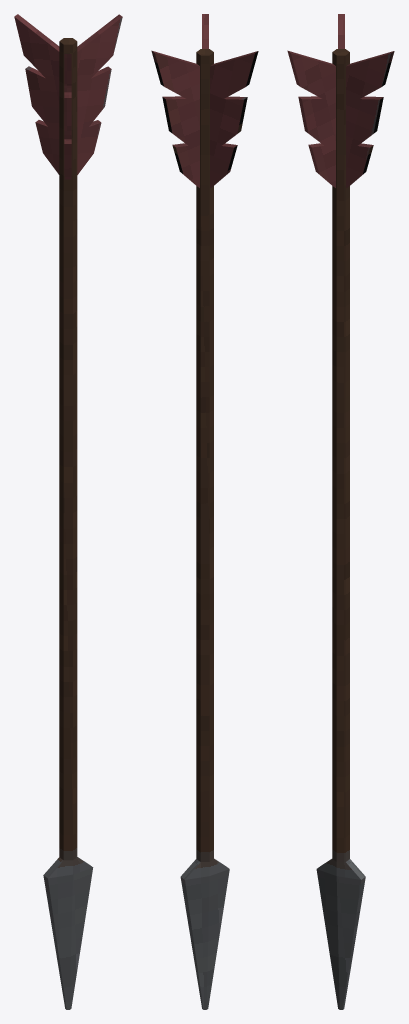
The model's file is arrow.glb.
3 views of the same model, side by side, from view 1: azimuth 30°, elevation 25°; view 2: azimuth 210°, elevation 25°; view 3: azimuth 330°, elevation 25° (orthographic).
Parts seen in each view (by area): view 1: Arrow; view 2: Arrow; view 3: Arrow.
Boxes of the visible parts, x1,y1,x2,y2 form: Arrow: (14, 14, 122, 1009); Arrow: (151, 14, 258, 1009); Arrow: (287, 14, 394, 1009).
Bounding box in the file's own units: 0.0654 × 0.75 × 0.0752.
1 material, 1 textured.
